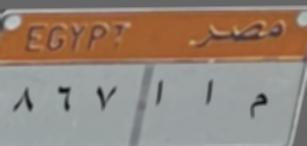6: (52, 82, 75, 115)
7: (93, 82, 120, 118)
8: (10, 85, 37, 118)
alif: (200, 76, 218, 112), (148, 78, 165, 110)
meem: (244, 84, 270, 125)
